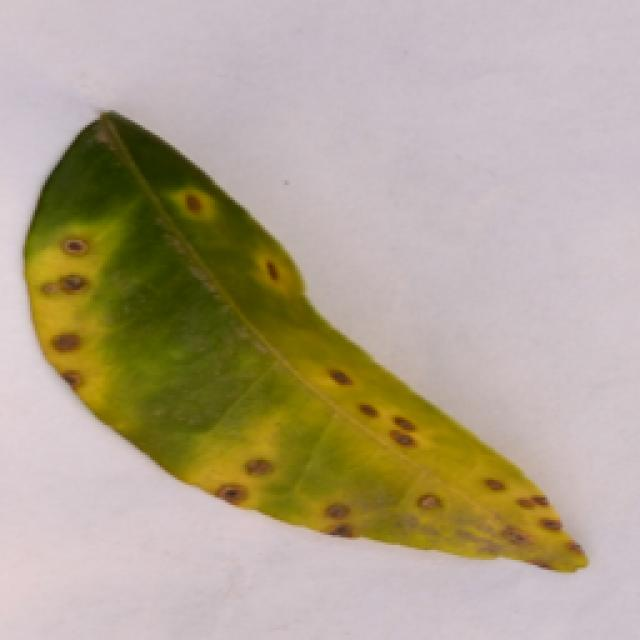canker: (29, 112, 594, 578)
